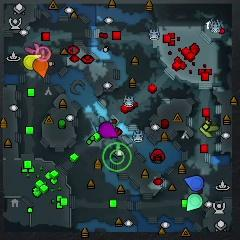Other: (102, 142, 132, 173), (36, 46, 51, 62)
p1: (184, 175, 204, 191)
p2: (186, 194, 202, 212)
p3: (99, 122, 118, 138)
p4: (23, 55, 42, 70)
p5: (32, 58, 49, 78)
x1: (25, 43, 41, 55)
x2: (200, 119, 219, 137)
x3: (99, 116, 113, 125)
